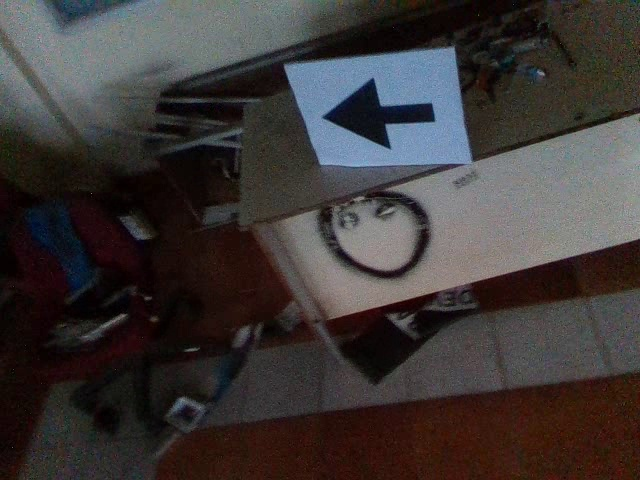Left: (321, 72, 438, 153)
